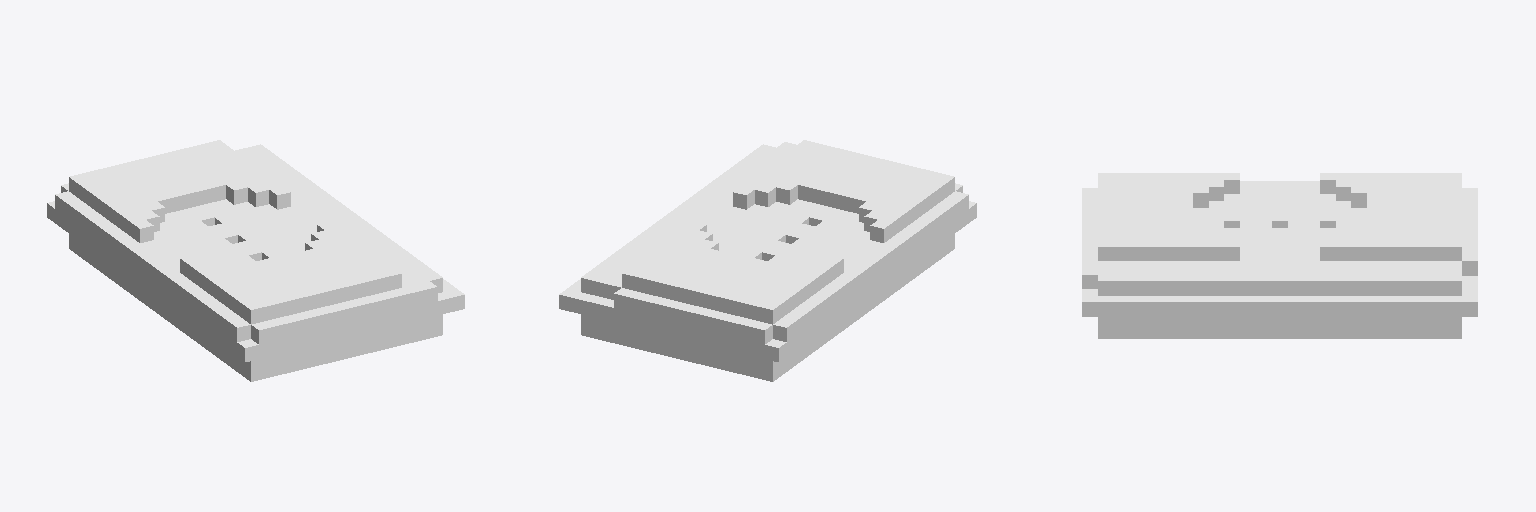
Rendered from Extra-7-DualStriker_CanonDoor_R.obj.
3 views of the same model, side by side, from view 1: azimuth 30°, elevation 25°; view 2: azimuth 150°, elevation 25°; view 3: azimuth 270°, elevation 25° (orthographic).
Visible parts, largest first — view 1: DualStriker_CanonDoor_R; view 2: DualStriker_CanonDoor_R; view 3: DualStriker_CanonDoor_R.
Boxes of the visible parts, x1=… form: DualStriker_CanonDoor_R: x1=47, y1=140, x2=464, y2=381; DualStriker_CanonDoor_R: x1=559, y1=140, x2=976, y2=381; DualStriker_CanonDoor_R: x1=1082, y1=173, x2=1477, y2=338.
Size of the model in its own units: 1.6 by 0.5 by 2.5.